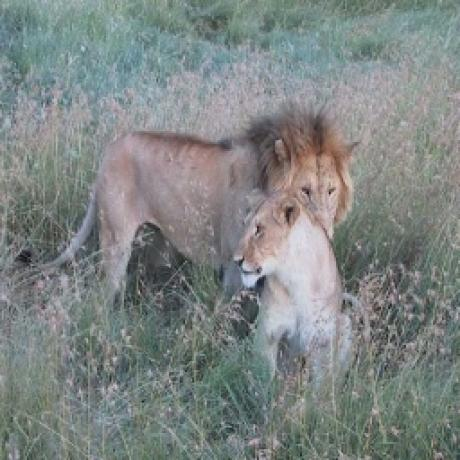Lion: (23, 112, 352, 298), (232, 183, 346, 375)
